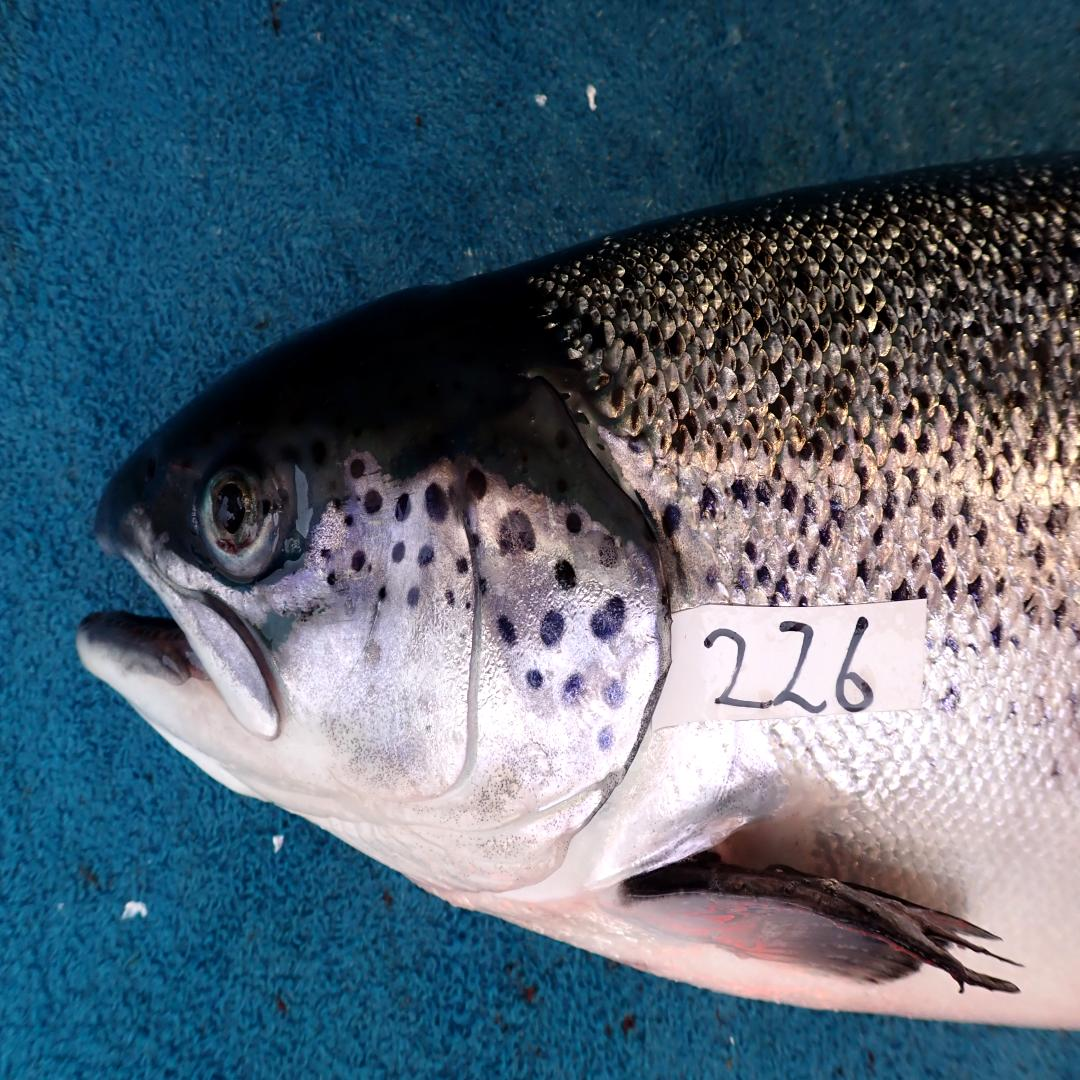roi: (280, 453, 668, 907)
